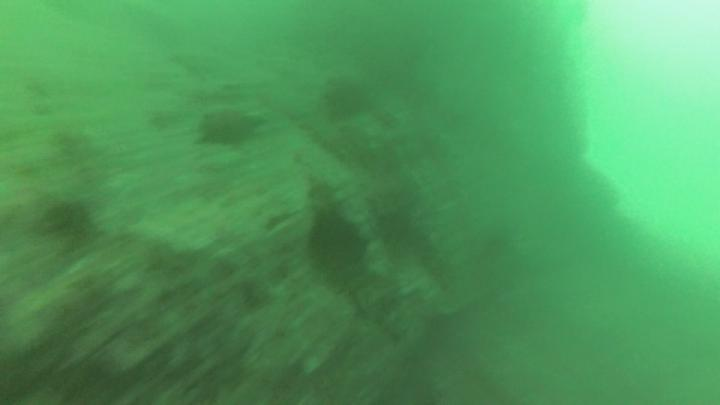echinus: (303, 200, 371, 274), (43, 196, 93, 253), (324, 78, 371, 124)
starfish: (195, 105, 267, 150)
